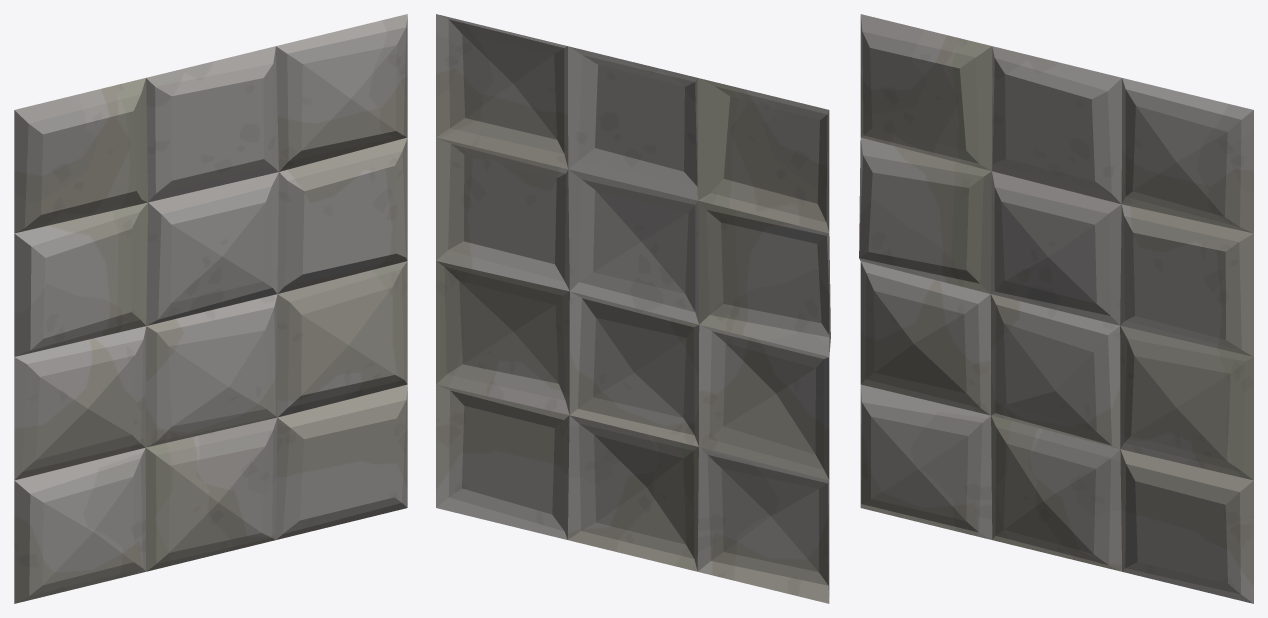
The model's file is SM_Bld_Wall_Padded_01.fbx.
3 views of the same model, side by side, from view 1: azimuth 30°, elevation 25°; view 2: azimuth 150°, elevation 25°; view 3: azimuth 330°, elevation 25° (orthographic).
Visible parts, largest first — view 1: SM_Bld_Wall_Padded_01; view 2: SM_Bld_Wall_Padded_01; view 3: SM_Bld_Wall_Padded_01.
Part boxes in pixels (x1=…): SM_Bld_Wall_Padded_01: x1=14, y1=14, x2=407, y2=603; SM_Bld_Wall_Padded_01: x1=436, y1=14, x2=830, y2=603; SM_Bld_Wall_Padded_01: x1=859, y1=14, x2=1253, y2=603.
Bounding box in the file's own units: 250 × 300 × 11.68.
